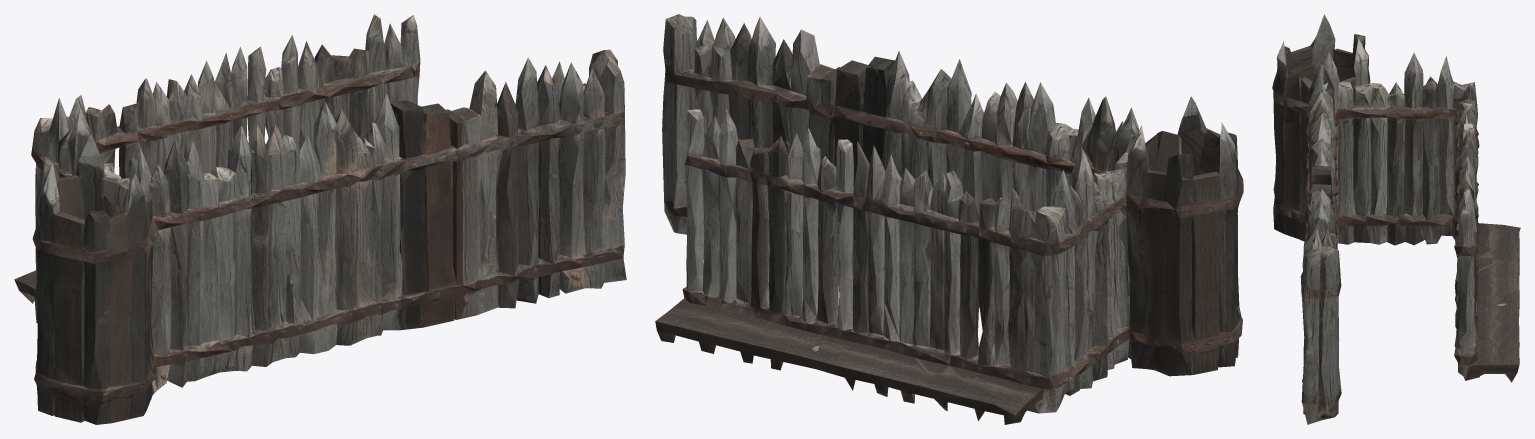
Rendered from palisade_e.glb.
3 renders of one model, left to right at view 1: azimuth 30°, elevation 25°; view 2: azimuth 150°, elevation 25°; view 3: azimuth 270°, elevation 25°, orthographic. The views are drawn at different scales.
Parts seen in each view (by area): view 1: mesh_node; view 2: mesh_node; view 3: mesh_node.
Part boxes in pixels (x1=…): mesh_node: x1=14, y1=14, x2=626, y2=424; mesh_node: x1=655, y1=14, x2=1243, y2=424; mesh_node: x1=1272, y1=14, x2=1520, y2=424.
Bounding box in the file's own units: 1.9 × 0.7755 × 0.8899.
1 material, 1 textured.
